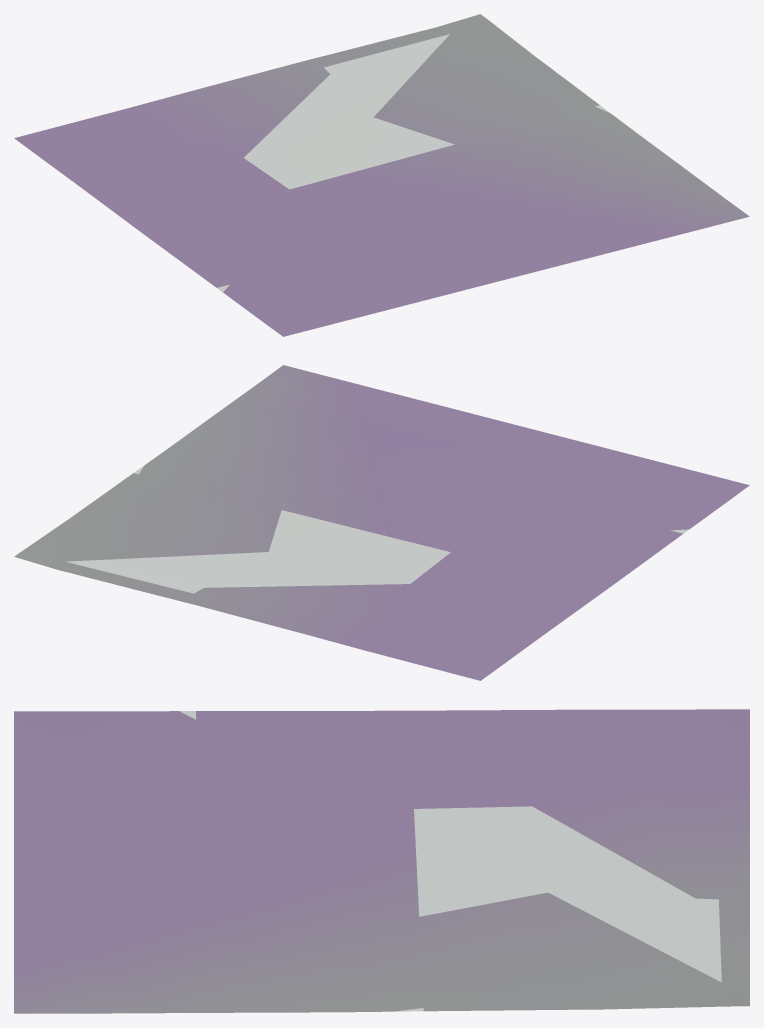
3 renders of one model, top to bottom at view 1: azimuth 30°, elevation 25°; view 2: azimuth 150°, elevation 25°; view 3: azimuth 270°, elevation 25°, orthographic. The views are drawn at different scales.
Parts seen in each view (by area): view 1: G:\FFXIV-MapTools\exports\m5f1\bg\ex4\02_mid_m5\fld\m5f1\bgp (×2); view 2: G:\FFXIV-MapTools\exports\m5f1\bg\ex4\02_mid_m5\fld\m5f1\bgp (×2); view 3: G:\FFXIV-MapTools\exports\m5f1\bg\ex4\02_mid_m5\fld\m5f1\bgp (×2).
Part boxes in pixels (x1,y1,x2,y2): G:\FFXIV-MapTools\exports\m5f1\bg\ex4\02_mid_m5\fld\m5f1\bgp (×2): [14, 14, 749, 336]; G:\FFXIV-MapTools\exports\m5f1\bg\ex4\02_mid_m5\fld\m5f1\bgp (×2): [14, 365, 749, 680]; G:\FFXIV-MapTools\exports\m5f1\bg\ex4\02_mid_m5\fld\m5f1\bgp (×2): [14, 709, 749, 1013].
Bounding box in the file's own units: 128 × 3.11 × 128.
